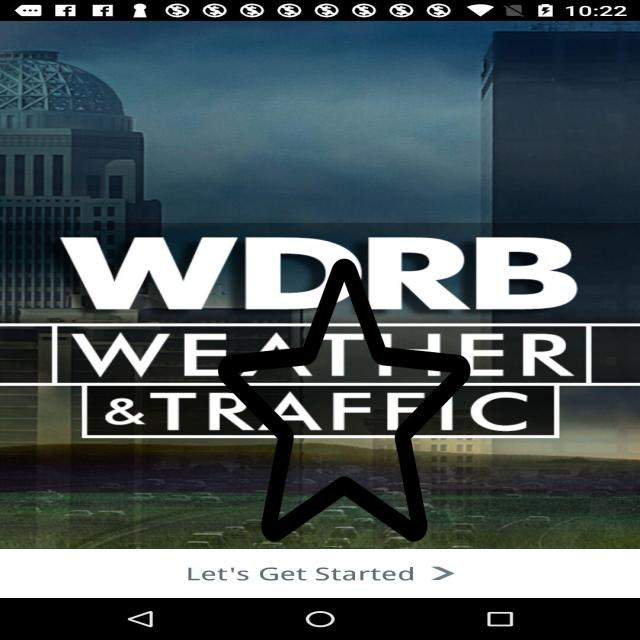forced continuity: (218, 252, 471, 548)
